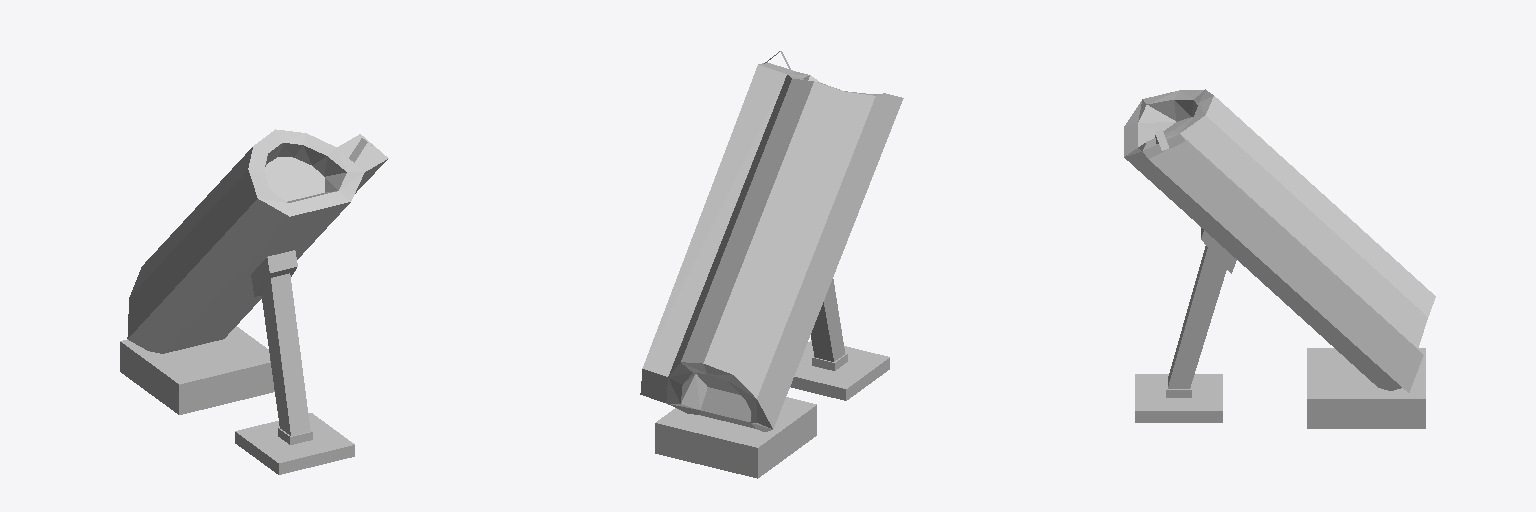
The model's file is dev_normal.obj.
The picture shows the model from 3 angles: view 1: azimuth 30°, elevation 25°; view 2: azimuth 150°, elevation 25°; view 3: azimuth 270°, elevation 25°; orthographic projection.
Visible parts, largest first — view 1: dev_normal; view 2: dev_normal; view 3: dev_normal.
Part boxes in pixels (x1,y1,x2,y2): dev_normal: (120,129,388,474); dev_normal: (640,51,903,478); dev_normal: (1124,89,1435,428).
Bounding box in the file's own units: 1.3 × 2.87 × 2.63.